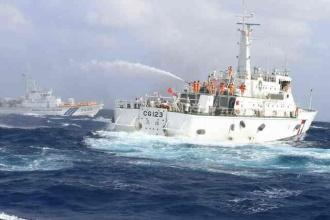warship: (107, 9, 318, 144), (3, 71, 105, 117)
